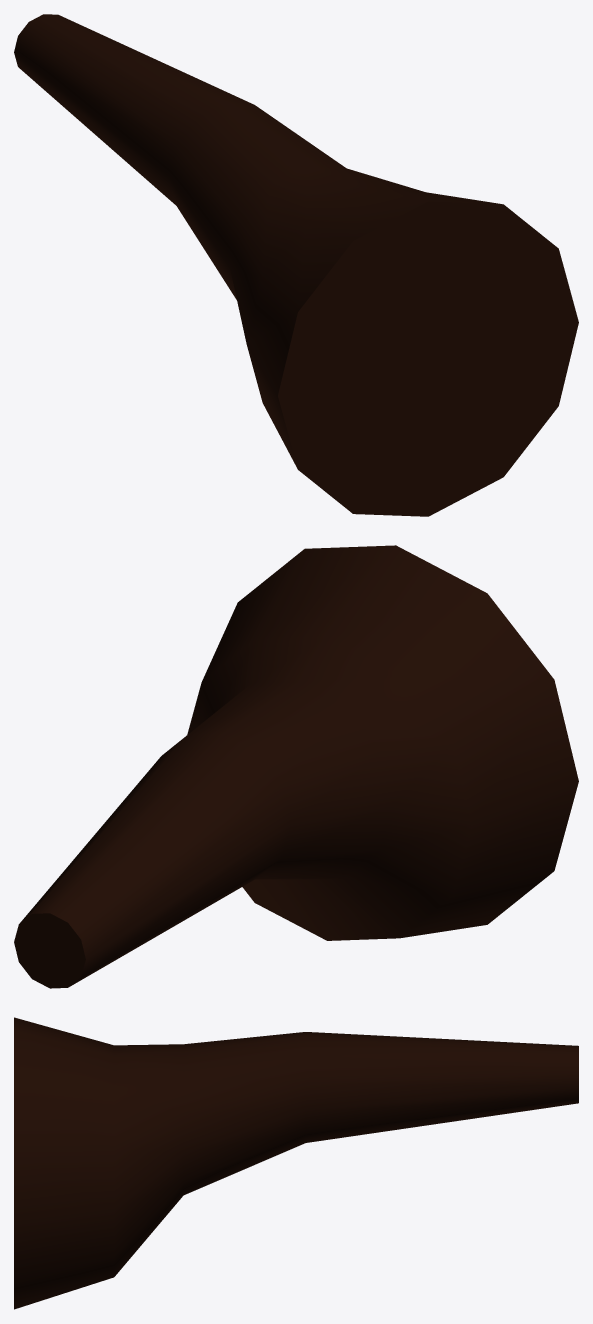
File: Me_PalmTree.fbx
The picture shows the model from 3 angles, top to bottom: view 1: azimuth 30°, elevation 25°; view 2: azimuth 150°, elevation 25°; view 3: azimuth 270°, elevation 25°; orthographic projection. The views are drawn at different scales.
Visible parts, largest first — view 1: Me_PalmTree; view 2: Me_PalmTree; view 3: Me_PalmTree.
Part boxes in pixels (left/top/right/bottom): Me_PalmTree: left=14, top=14, right=578, bottom=516; Me_PalmTree: left=14, top=545, right=578, bottom=988; Me_PalmTree: left=14, top=1017, right=578, bottom=1309.
Size of the model in its own units: 90.21 by 90.21 by 174.
